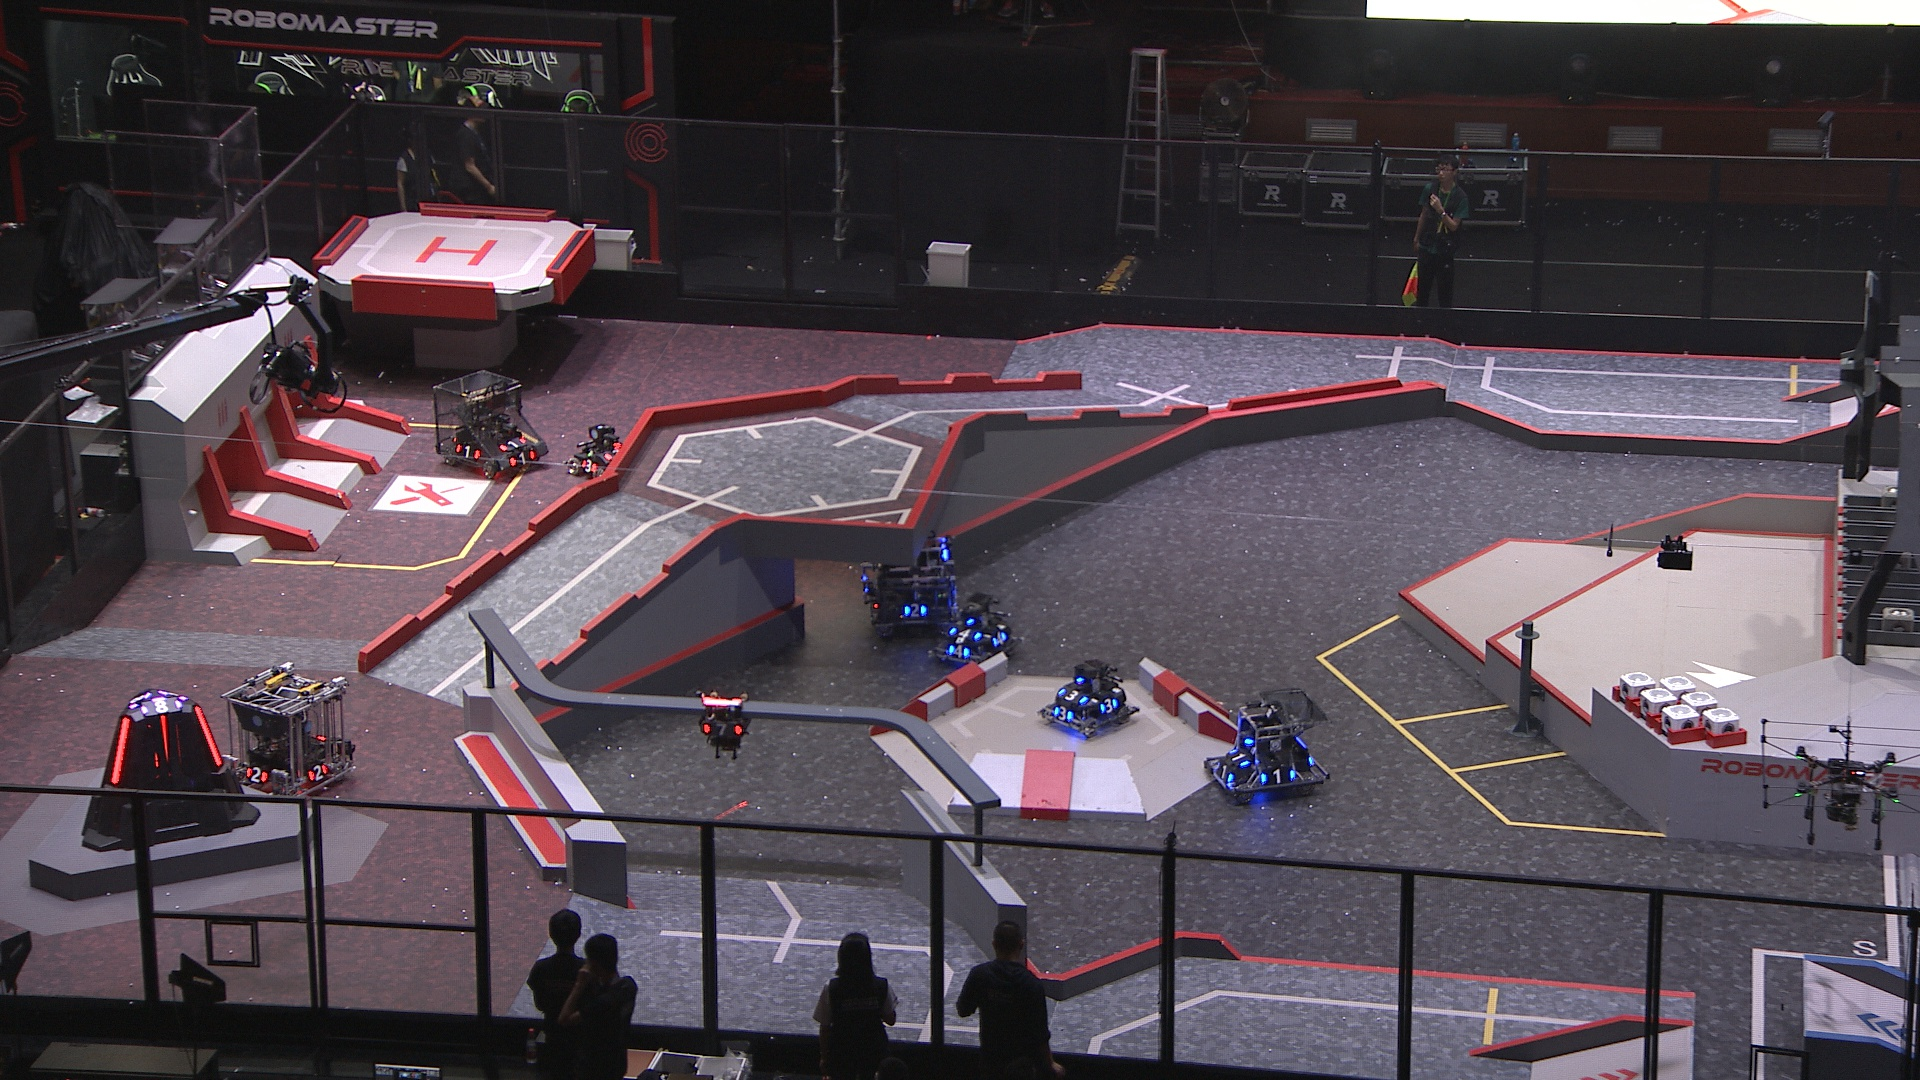armor: (193, 704, 224, 767), (107, 712, 131, 785), (700, 719, 742, 738), (244, 765, 272, 787), (1262, 766, 1295, 785), (948, 624, 982, 641), (508, 447, 534, 467), (498, 436, 527, 452), (989, 626, 1007, 650), (1060, 688, 1088, 704), (1215, 764, 1234, 785), (306, 764, 328, 782), (456, 444, 481, 460), (1230, 746, 1250, 766), (903, 603, 927, 618), (1100, 698, 1120, 716), (1054, 707, 1073, 725), (160, 716, 169, 756), (945, 645, 969, 659), (604, 444, 621, 462), (579, 458, 597, 473)
base: (79, 688, 258, 851)
car: (223, 661, 357, 802), (1207, 684, 1332, 804), (430, 367, 553, 480), (851, 522, 959, 640), (1040, 657, 1138, 736), (935, 585, 1015, 671), (566, 423, 632, 481)
ignore: (140, 698, 183, 717)
watcher: (695, 690, 752, 756)
